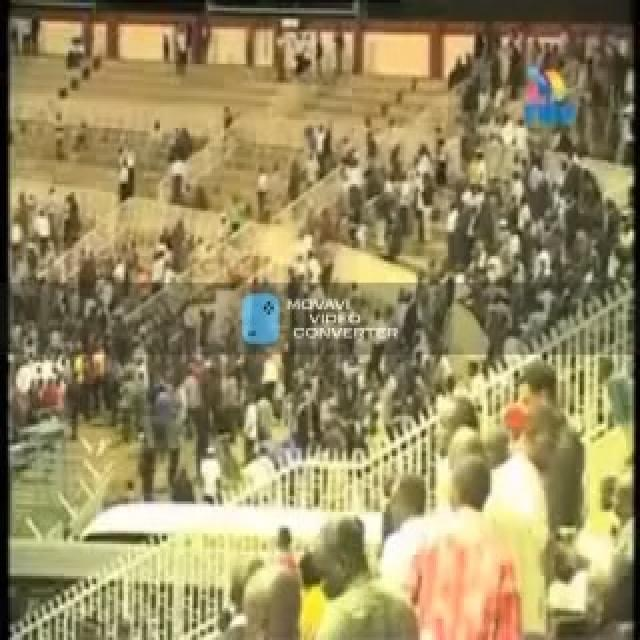non-voilence: (6, 19, 634, 637), (238, 288, 280, 347)
